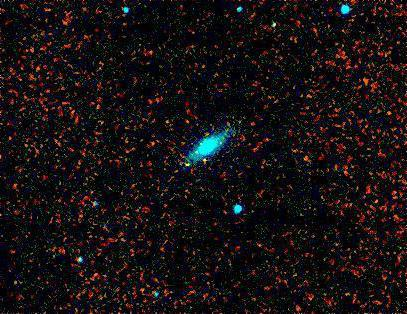star: (189, 142, 219, 172)
